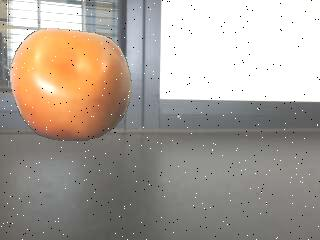Potato: (8, 27, 134, 142)
